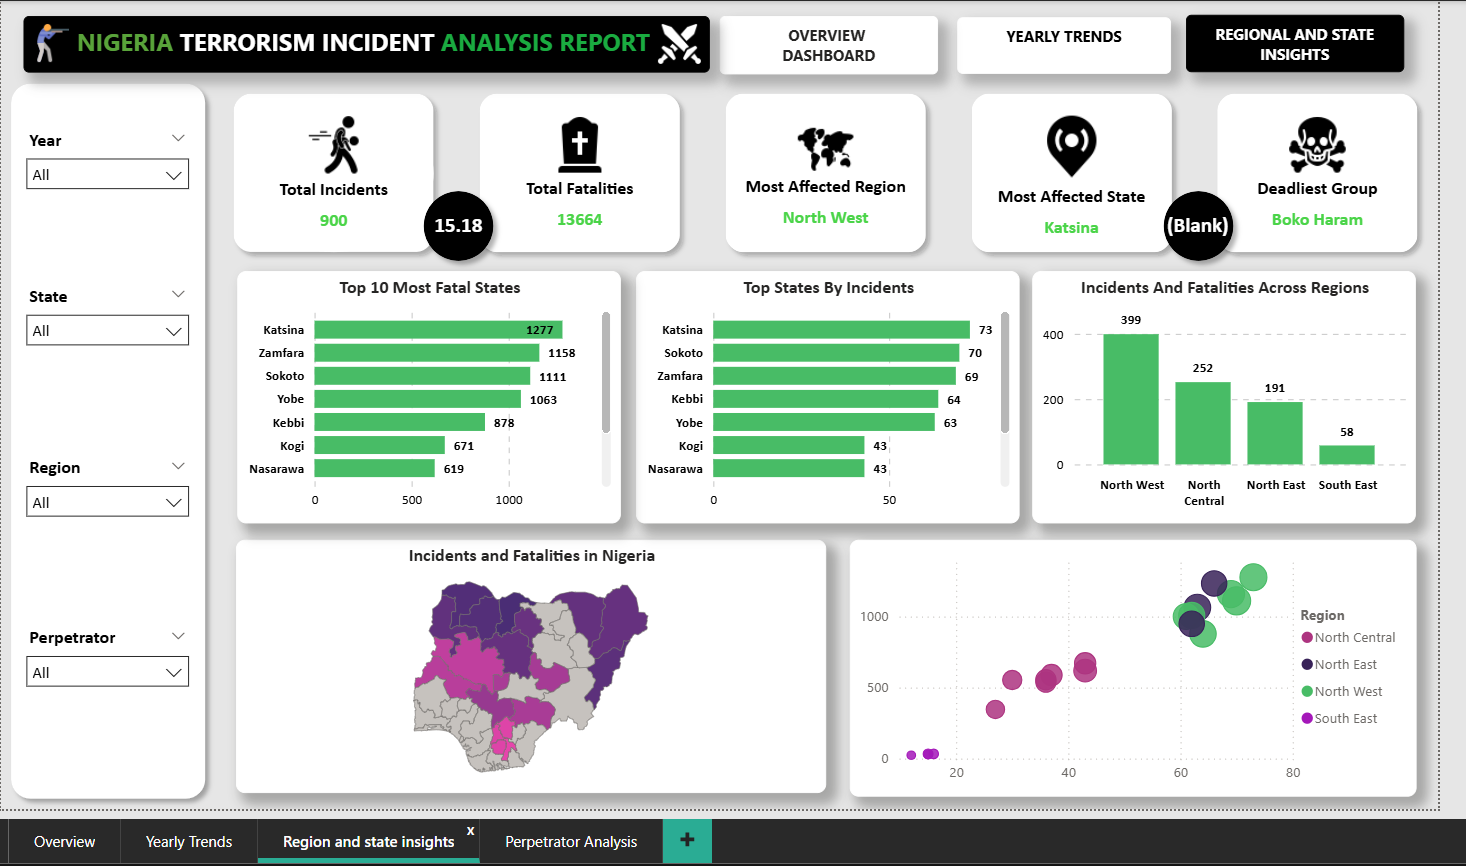

The page's visual inventory and layout, read from the dashboard file:
{"tool":"powerbi","page":{"name":"Region and state insights","canvas":[1280,720],"ordinal":2},"visuals":[{"type":"shapeMap","title":"Incidents and Fatalities in Nigeria","fields":{"Category":["nigeria_security_incidents.state"],"Value":["nigeria_security_incidents.Total Incidents"]},"box":[209.3,480.2,525.6,225.6],"z":0},{"type":"textbox","box":[851.2,14,190.7,50],"z":1000},{"type":"textbox","box":[640,13.2,194.6,51.7],"z":2000},{"type":"textbox","box":[1055.8,12.8,194.2,51.2],"z":3000},{"type":"shape","box":[0,64.4,190.8,654.9],"z":4000},{"type":"slicer","fields":{"Values":["nigeria_security_incidents.year"]},"box":[12.4,109.5,164.9,72.3],"z":5000},{"type":"slicer","fields":{"Values":["nigeria_security_incidents.state"]},"box":[12.4,248.4,164.9,75.7],"z":6000},{"type":"slicer","fields":{"Values":["nigeria_security_incidents.region"]},"box":[12.4,400.8,164.9,73.4],"z":7000},{"type":"slicer","fields":{"Values":["nigeria_security_incidents.perpetrator"]},"box":[12.4,552.2,164.9,88.1],"z":8000},{"type":"cardVisual","fields":{"Data":["nigeria_security_incidents.Total Incidents","Sum(nigeria_security_incidents.killed)","nigeria_security_incidents.Most Affected Region","nigeria_security_incidents.Most Affected State","nigeria_security_incidents.Deadliest Grou"]},"box":[190.4,65.5,1089.6,175],"z":9000},{"type":"shape","box":[367,160.3,80.2,80.2],"z":10000},{"type":"shape","box":[1026.4,160.3,80.2,80.2],"z":11000},{"type":"card","fields":{"Values":["nigeria_security_incidents.Average Fatalities Per Attack"]},"box":[370.4,173.9,73.4,53.1],"z":12000},{"type":"card","fields":{"Values":["yearly_incidents_summary.YoY Incidents %"]},"box":[1024.1,178.4,83.6,45.2],"z":13000},{"type":"textbox","box":[19.8,13.2,611.4,50.6],"z":14000},{"type":"image","box":[19.8,12.1,52.8,50.6],"z":15000},{"type":"image","box":[578.1,12.4,53.1,51.9],"z":16000},{"type":"clusteredBarChart","title":"Top States By Incidents","fields":{"Category":["nigeria_security_incidents.state"],"Y":["nigeria_security_incidents.Total Incidents"]},"box":[565.1,240.7,341.9,224.4],"z":17000},{"type":"clusteredBarChart","title":"Top 10 Most Fatal States","fields":{"Y":["Sum(nigeria_security_incidents.killed)"],"Category":["nigeria_security_incidents.state"]},"box":[210.5,240.7,341.9,224.4],"z":18000},{"type":"clusteredColumnChart","title":"Incidents And Fatalities Across Regions","fields":{"Category":["nigeria_security_incidents.region"],"Y":["nigeria_security_incidents.Total Incidents"]},"box":[918.6,240.7,341.9,224.4],"z":19000},{"type":"scatterChart","fields":{"X":["nigeria_security_incidents.Total Incidents"],"Y":["Sum(nigeria_security_incidents.killed)"],"Series":["nigeria_security_incidents.region"],"Size":["Sum(nigeria_security_incidents.kidnapped)"],"Category":["nigeria_security_incidents.state"]},"box":[755.8,480.2,504.7,229.1],"z":20000}]}

Visuals, with their boxes on the page's 1280x720 design canvas (x1, y1, x2, y2). These are canvas units, not pixel positions in the 1466x866 screenshot, which may show the page scaled, cropped or inside an application window:
"Incidents and Fatalities in Nigeria" shapeMap: l=209, t=480, r=735, b=706
textbox: l=851, t=14, r=1042, b=64
textbox: l=640, t=13, r=835, b=65
textbox: l=1056, t=13, r=1250, b=64
shape: l=0, t=64, r=191, b=719
slicer - nigeria_security_incidents.year: l=12, t=110, r=177, b=182
slicer - nigeria_security_incidents.state: l=12, t=248, r=177, b=324
slicer - nigeria_security_incidents.region: l=12, t=401, r=177, b=474
slicer - nigeria_security_incidents.perpetrator: l=12, t=552, r=177, b=640
cardVisual - nigeria_security_incidents.Total Incidents x Sum(nigeria_security_incidents.killed): l=190, t=66, r=1280, b=240
shape: l=367, t=160, r=447, b=240
shape: l=1026, t=160, r=1107, b=240
card - nigeria_security_incidents.Average Fatalities Per Attack: l=370, t=174, r=444, b=227
card - yearly_incidents_summary.YoY Incidents %: l=1024, t=178, r=1108, b=224
textbox: l=20, t=13, r=631, b=64
image: l=20, t=12, r=73, b=63
image: l=578, t=12, r=631, b=64
"Top States By Incidents" clusteredBarChart: l=565, t=241, r=907, b=465
"Top 10 Most Fatal States" clusteredBarChart: l=210, t=241, r=552, b=465
"Incidents And Fatalities Across Regions" clusteredColumnChart: l=919, t=241, r=1260, b=465
scatterChart - nigeria_security_incidents.Total Incidents x Sum(nigeria_security_incidents.killed): l=756, t=480, r=1260, b=709
